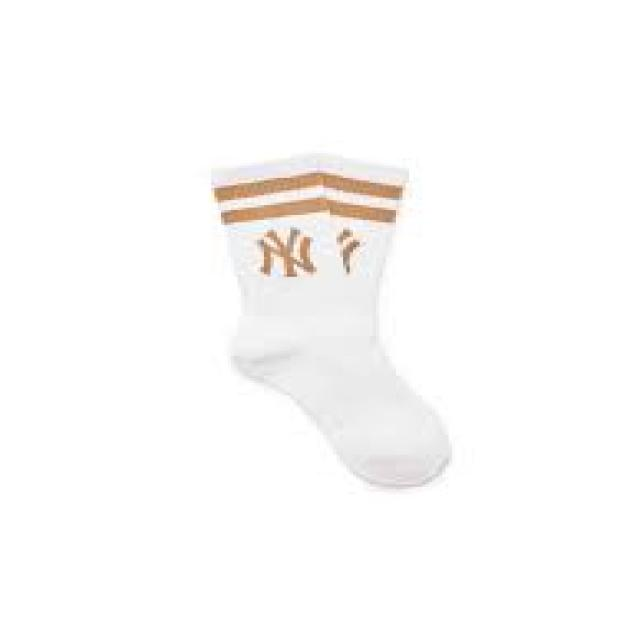sock: (208, 151, 452, 487)
